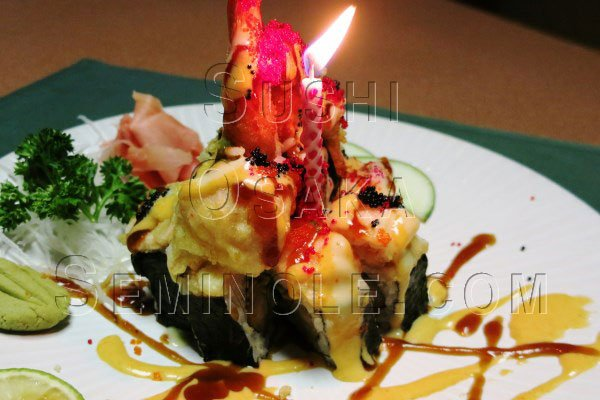pasta: (0, 255, 72, 333)
